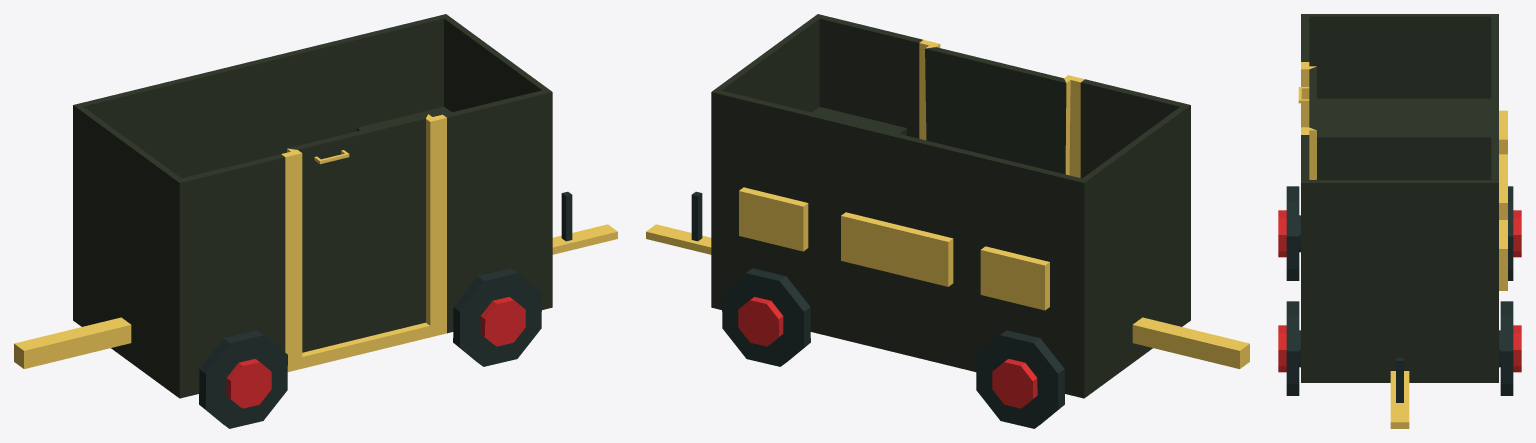
Rendered from RoadTrain_B.fbx.
3 views of the same model, side by side, from view 1: azimuth 30°, elevation 25°; view 2: azimuth 150°, elevation 25°; view 3: azimuth 270°, elevation 25° (orthographic). The views are drawn at different scales.
Visible parts, largest first — view 1: RoadTrain_B, RoadTrain_B_Wheel, RoadTrain_B_Wheel.001; view 2: RoadTrain_B, RoadTrain_B_Wheel, RoadTrain_B_Wheel.001; view 3: RoadTrain_B, RoadTrain_B_Wheel.001, RoadTrain_B_Wheel.
Boxes of the visible parts, bbox=[...] form: RoadTrain_B: bbox=[14, 14, 617, 398]; RoadTrain_B_Wheel: bbox=[199, 330, 287, 428]; RoadTrain_B_Wheel.001: bbox=[453, 268, 541, 366]; RoadTrain_B: bbox=[646, 14, 1249, 398]; RoadTrain_B_Wheel: bbox=[976, 330, 1064, 428]; RoadTrain_B_Wheel.001: bbox=[722, 268, 810, 366]; RoadTrain_B: bbox=[1298, 14, 1507, 428]; RoadTrain_B_Wheel.001: bbox=[1278, 301, 1521, 395]; RoadTrain_B_Wheel: bbox=[1278, 186, 1521, 280].
Size of the model in its own units: 195 by 78.53 by 74.4.
